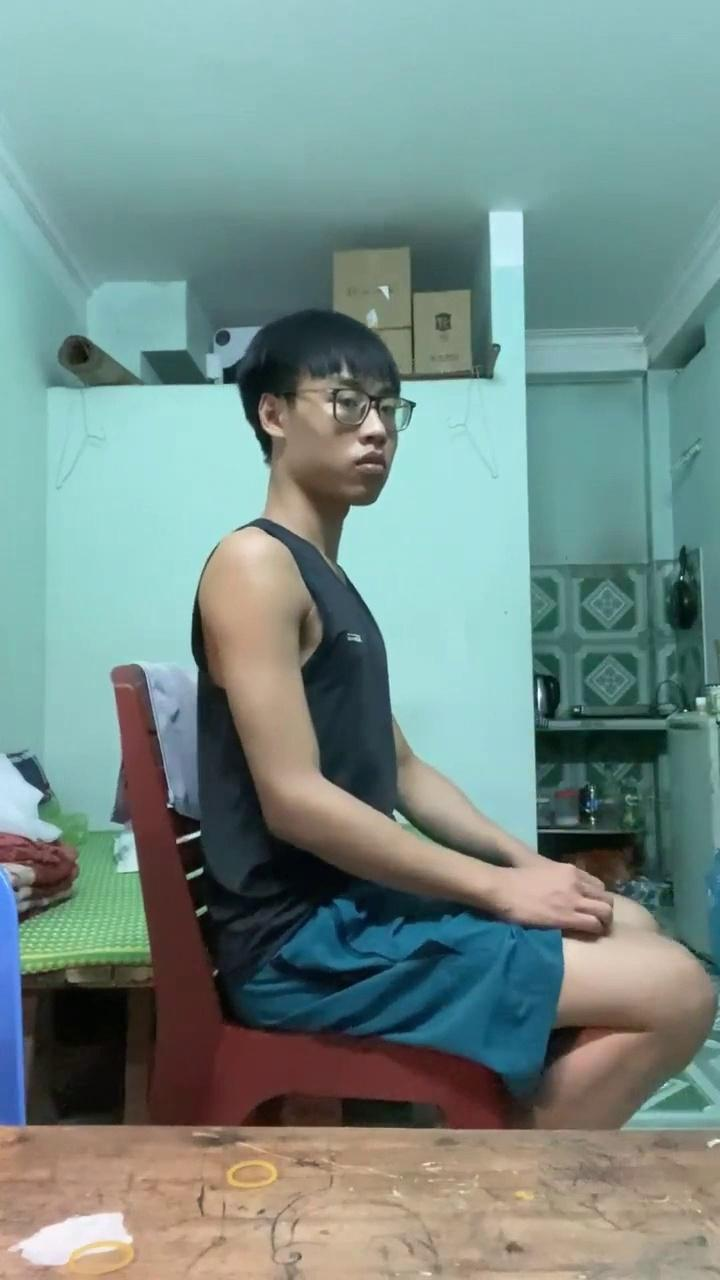GoodPosture: (193, 311, 715, 1127)
